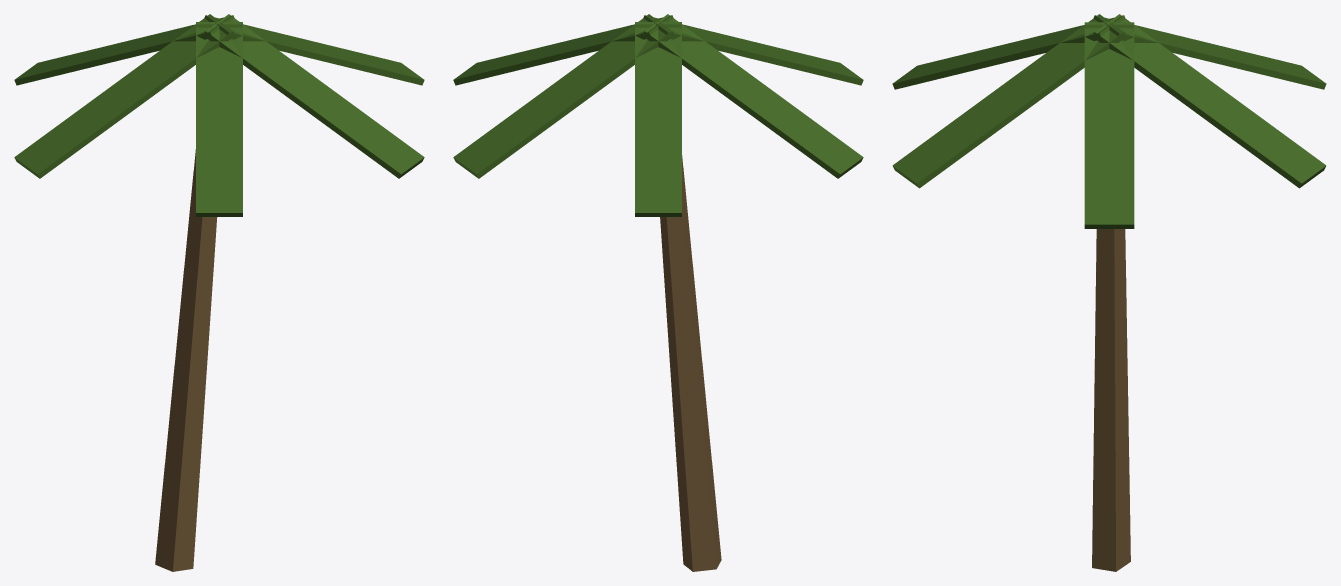
Rendered from tree_palm.glb.
3 views of the same model, side by side, from view 1: azimuth 30°, elevation 25°; view 2: azimuth 150°, elevation 25°; view 3: azimuth 270°, elevation 25° (orthographic). The views are drawn at different scales.
Parts seen in each view (by area): view 1: tree_palm; view 2: tree_palm; view 3: tree_palm.
Part boxes in pixels (x1=…): tree_palm: x1=14, y1=14, x2=424, y2=571; tree_palm: x1=453, y1=14, x2=863, y2=571; tree_palm: x1=892, y1=14, x2=1326, y2=571.
Size of the model in its own units: 2.87 by 3.77 by 2.63.
